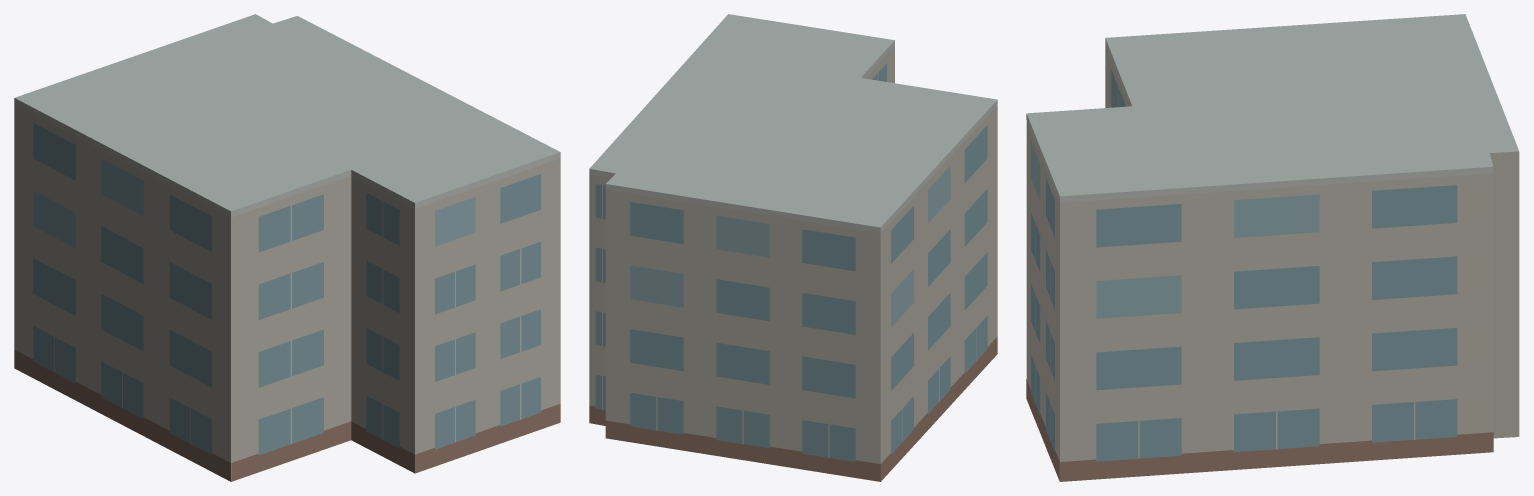
The model's file is survey-upis-32575580.glb.
3 renders of one model, left to right at view 1: azimuth 30°, elevation 25°; view 2: azimuth 150°, elevation 25°; view 3: azimuth 270°, elevation 25°, orthographic. The views are drawn at different scales.
Visible parts, largest first — view 1: survey-upis-32575580.tmp; view 2: survey-upis-32575580.tmp; view 3: survey-upis-32575580.tmp.
Boxes of the visible parts, <box> form: survey-upis-32575580.tmp: <box>14,14,560,481</box>; survey-upis-32575580.tmp: <box>589,14,997,481</box>; survey-upis-32575580.tmp: <box>1026,14,1519,481</box>.
Bounding box in the file's own units: 14.67 × 10.7 × 16.75.
